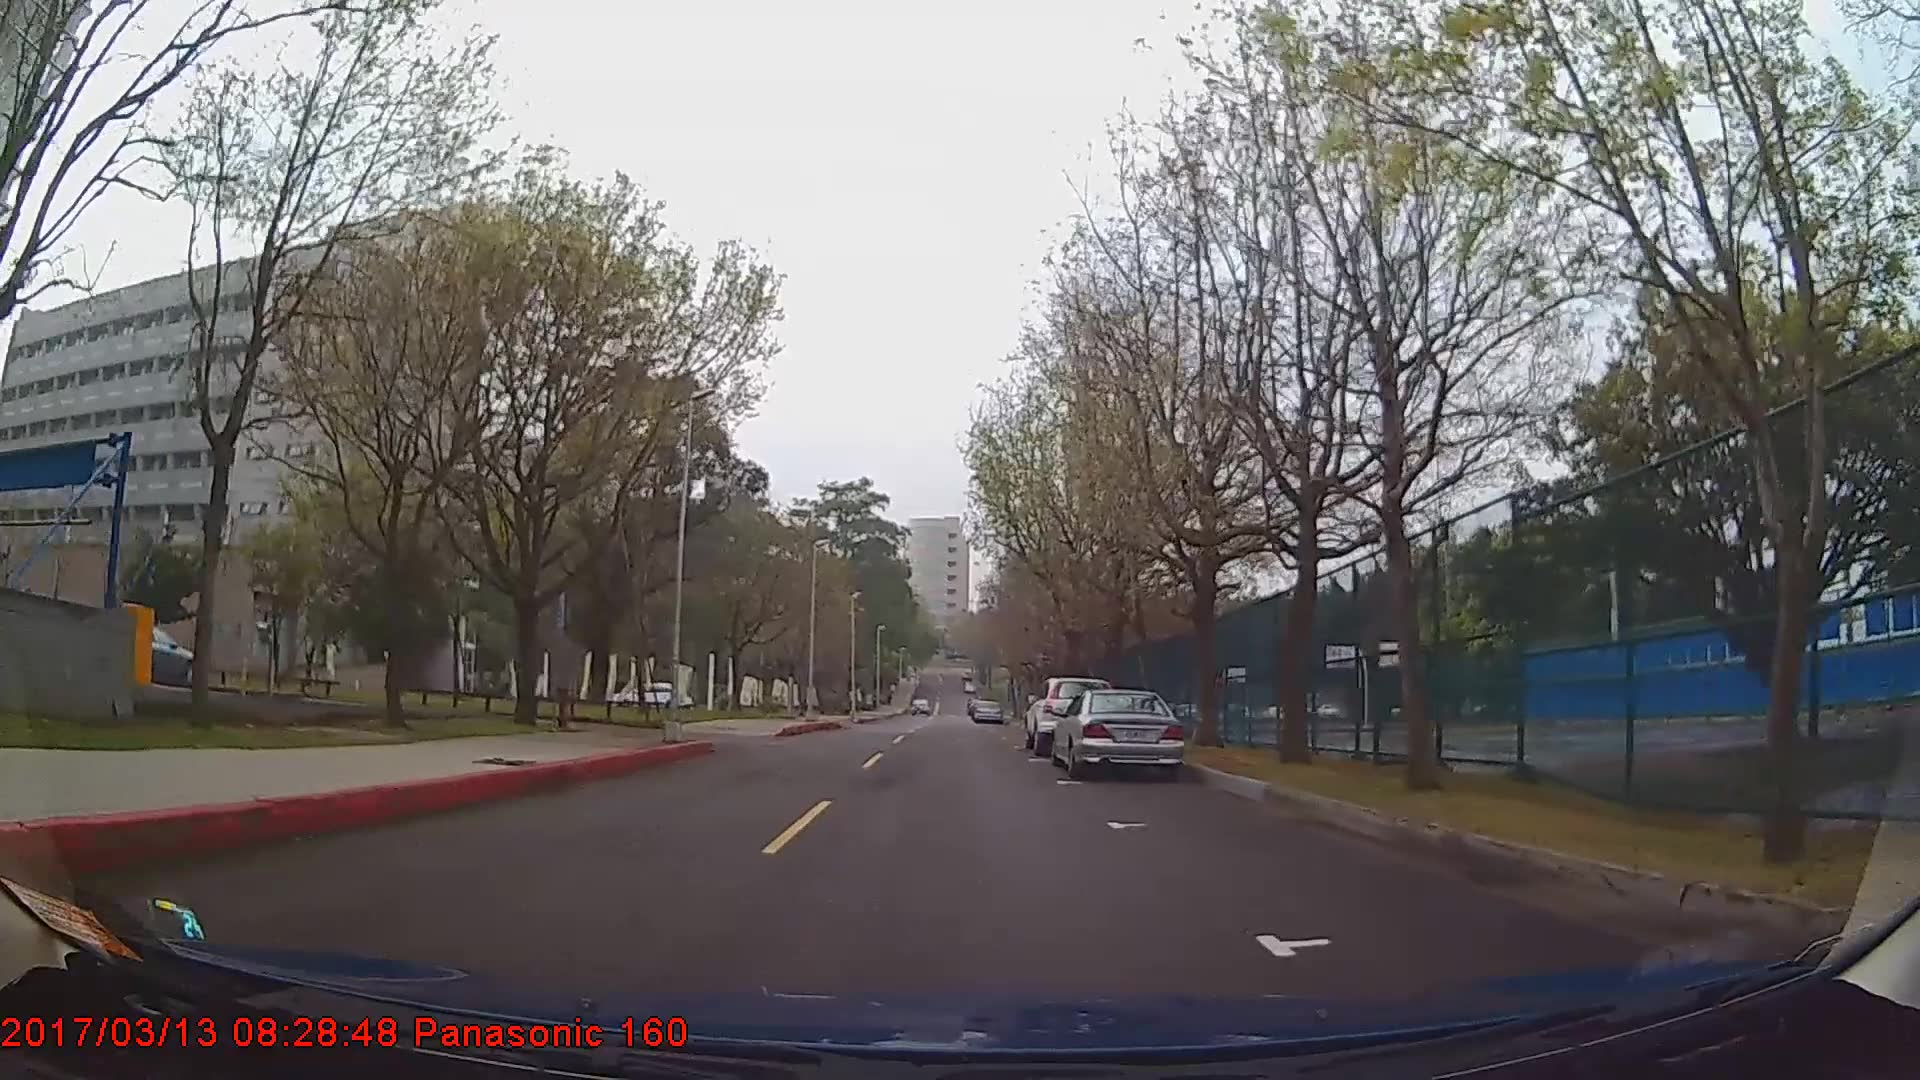vehicle: (1050, 686, 1185, 775), (90, 617, 207, 687), (1025, 670, 1116, 750), (613, 680, 695, 709)
